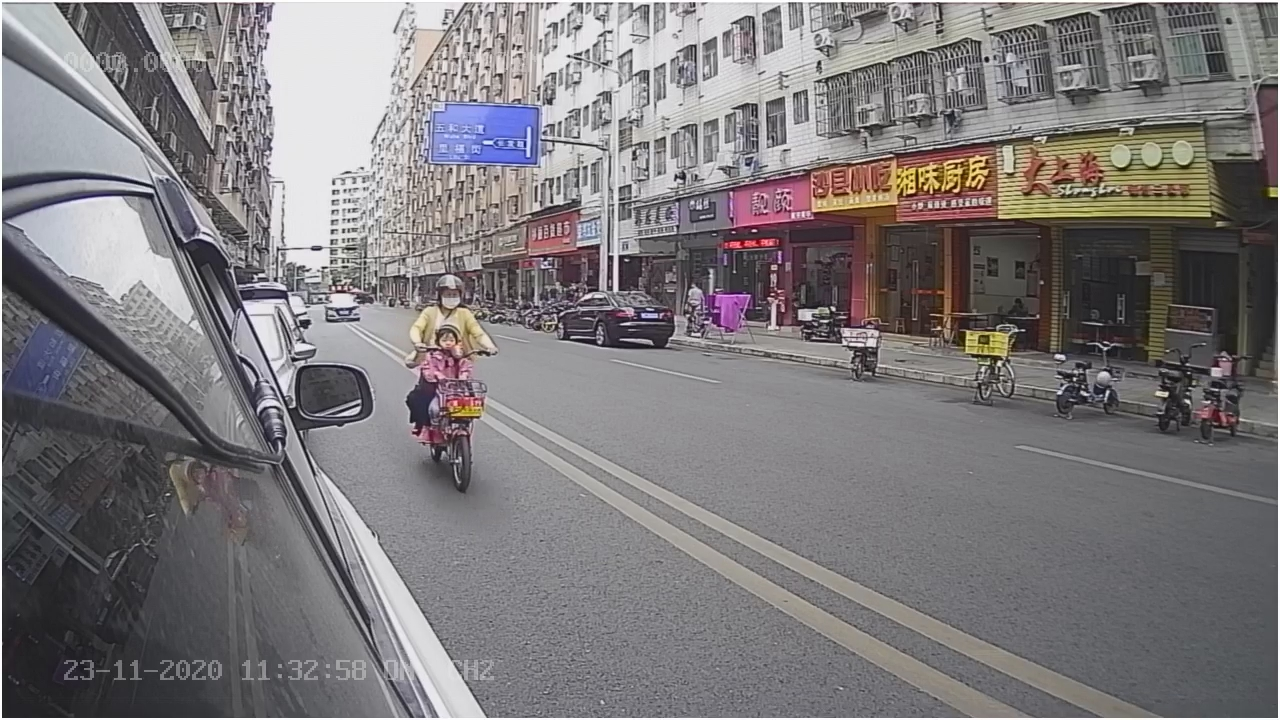person: (409, 275, 488, 351)
